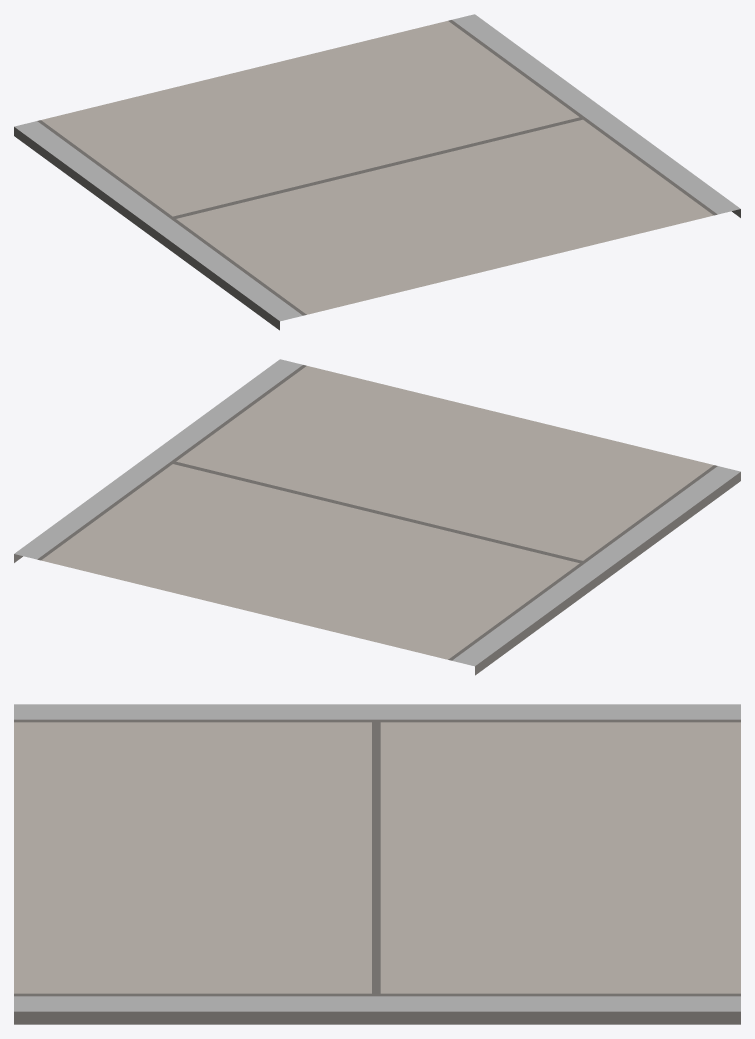
Rendered from SA_Env_Path_Driveway_01.fbx.
The picture shows the model from 3 angles, top to bottom: view 1: azimuth 30°, elevation 25°; view 2: azimuth 150°, elevation 25°; view 3: azimuth 270°, elevation 25°; orthographic projection. The views are drawn at different scales.
Parts seen in each view (by area): view 1: SA_Env_Path_Driveway_01; view 2: SA_Env_Path_Driveway_01; view 3: SA_Env_Path_Driveway_01.
Part boxes in pixels (x1,y1,x2,y2): SA_Env_Path_Driveway_01: (14,14,740,330); SA_Env_Path_Driveway_01: (14,359,740,675); SA_Env_Path_Driveway_01: (14,704,740,1024).
Size of the model in its own units: 10 by 0.1948 by 10.
Materials: 1 (1 with a texture image).
